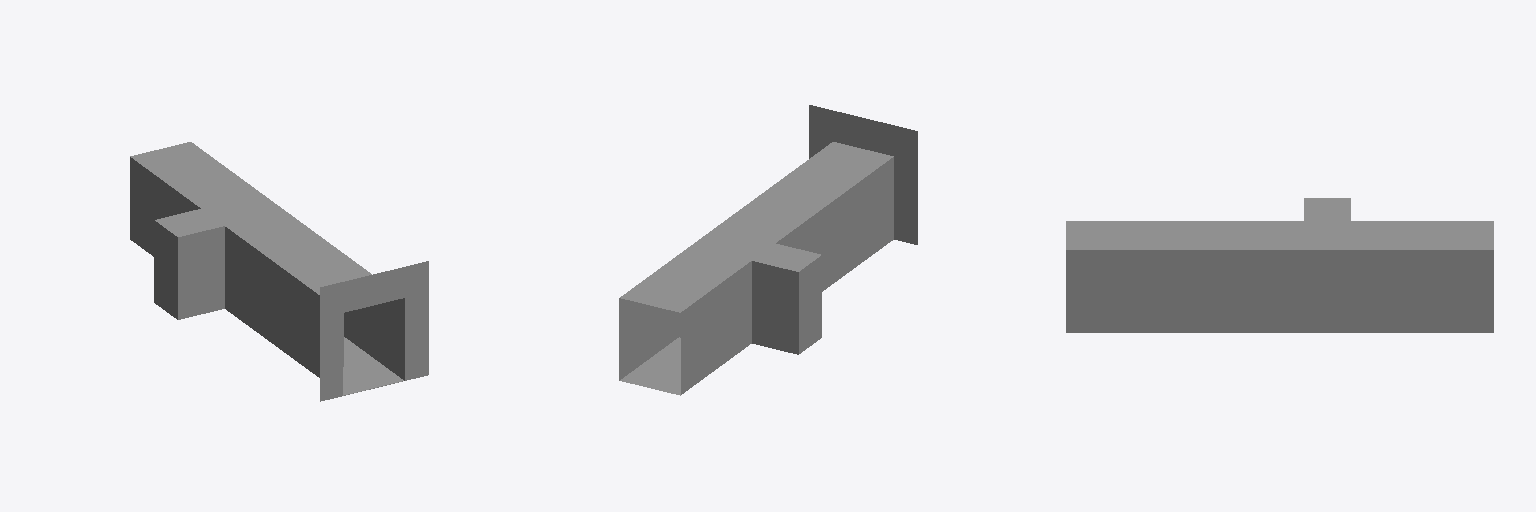
Rendered from couloir.obj.
The picture shows the model from 3 angles: view 1: azimuth 30°, elevation 25°; view 2: azimuth 150°, elevation 25°; view 3: azimuth 270°, elevation 25°; orthographic projection.
Parts seen in each view (by area): view 1: Cube; view 2: Cube; view 3: Cube.
Boxes of the visible parts, box(x1,y1,x2,y2) form: Cube: box(130, 142, 428, 401); Cube: box(619, 105, 917, 395); Cube: box(1066, 198, 1493, 332).
Size of the model in its own units: 5.77 by 4.76 by 16.13.